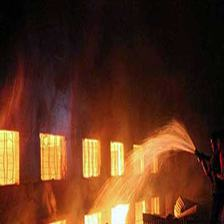fire: (47, 195, 139, 224)
